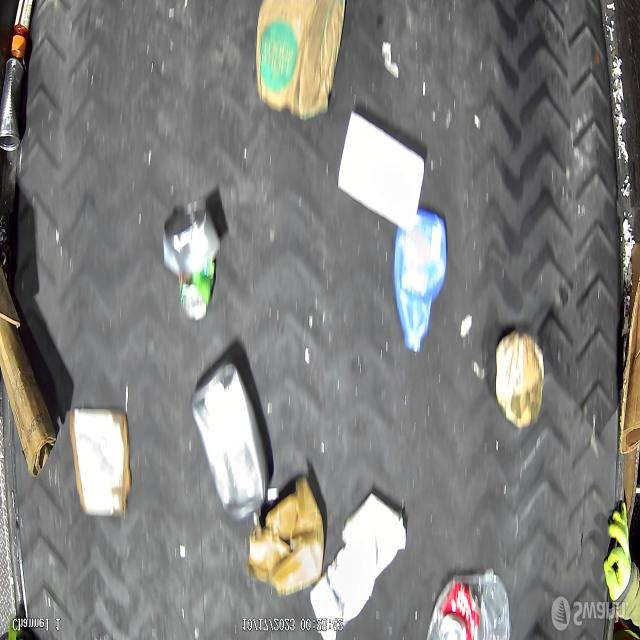can: (162, 202, 220, 272), (438, 583, 480, 640), (0, 58, 25, 152), (178, 260, 216, 320)
non_white_jug: (192, 357, 268, 518), (393, 204, 449, 352)
